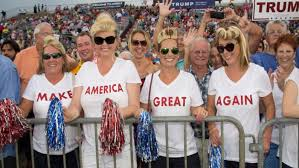white_female: (76, 4, 124, 67)
